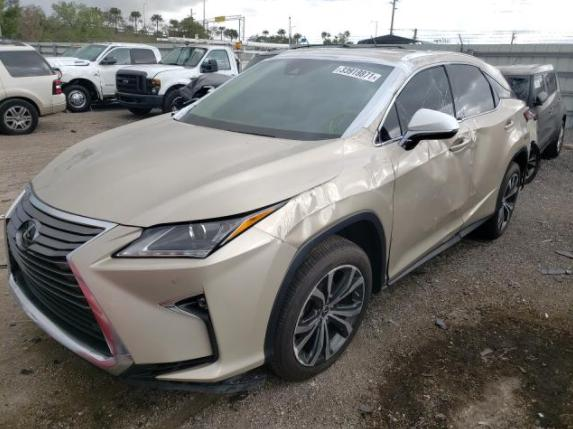Back-door: (445, 60, 518, 231)
Back-wheel: (476, 159, 522, 239)
Back-window: (447, 63, 494, 117)
Fender: (257, 126, 395, 288)
Front-bumper: (71, 223, 306, 395)
Front-door: (373, 60, 477, 282)
Front-wheel: (265, 234, 373, 381)
Front-window: (397, 65, 456, 134), (375, 102, 402, 142)
Grille: (1, 181, 137, 378)
Headlight: (110, 198, 292, 259)
Hood: (31, 112, 345, 228)
Mirror: (398, 107, 459, 151)
Quarter-panel: (496, 80, 531, 193)
Rocker-panel: (382, 212, 494, 290)
Roof: (272, 47, 454, 66)
Tail-light: (522, 108, 531, 122)
Windshield: (176, 57, 396, 141)
